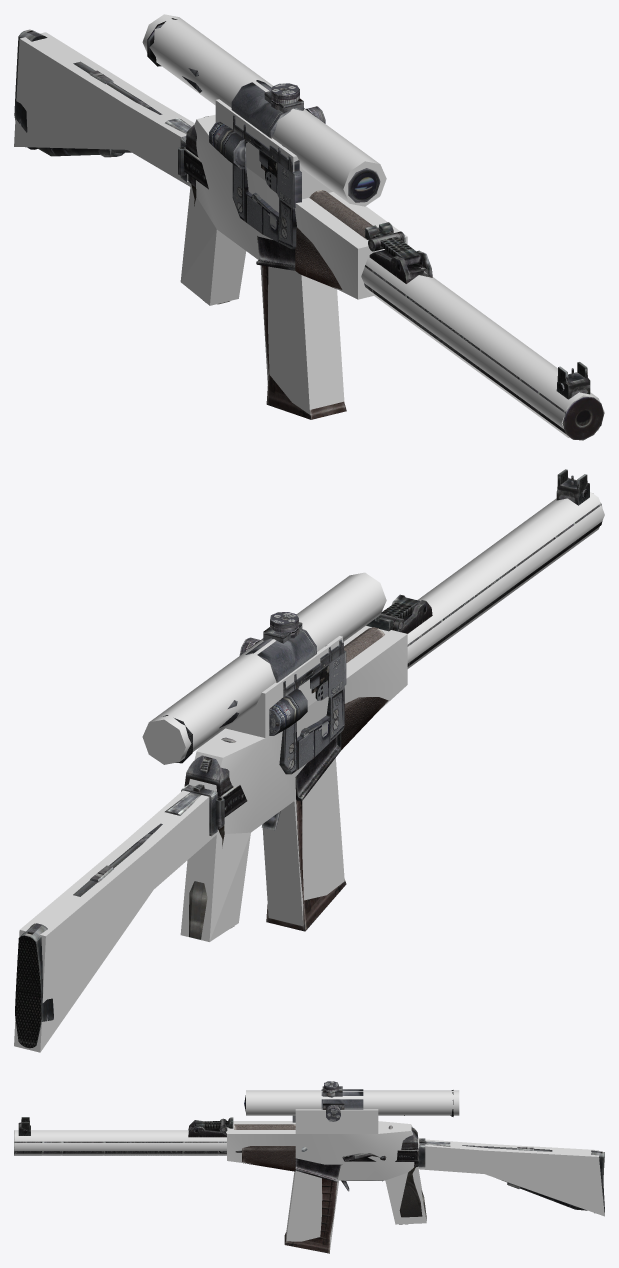
File: val.FBX
3 views of the same model, one above another, from view 1: azimuth 30°, elevation 25°; view 2: azimuth 150°, elevation 25°; view 3: azimuth 270°, elevation 25° (orthographic). The views are drawn at different scales.
Parts seen in each view (by area): view 1: lod, wpn_val; view 2: lod, wpn_val; view 3: lod, wpn_val.
Part boxes in pixels (x1,y1,x2,y2): lod: [14, 14, 604, 440]; wpn_val: [14, 18, 604, 440]; lod: [14, 492, 604, 1052]; wpn_val: [15, 469, 602, 1048]; lod: [14, 1090, 604, 1249]; wpn_val: [14, 1081, 604, 1253].
Bounding box in the file's own units: 6.69 × 27.02 × 88.01.
